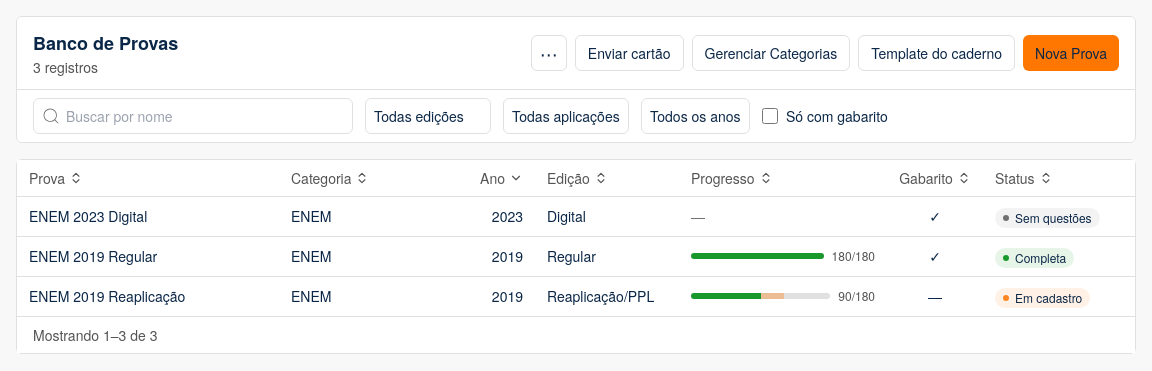
Test: filtros › 'Limpar filtros' só aparece com filtro ativo
Expected: the text "Limpar filtros" is not shown
Click the checkbox labelled "Só com gabarito" at point(770, 116), box [762,108,778,124]
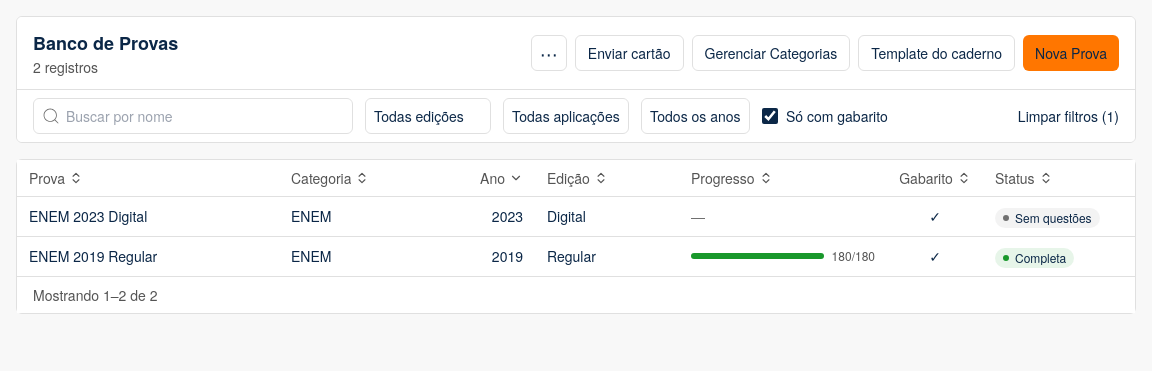
Expected: the button "Limpar filtros (1)" is shown, [1018,106,1119,126]
